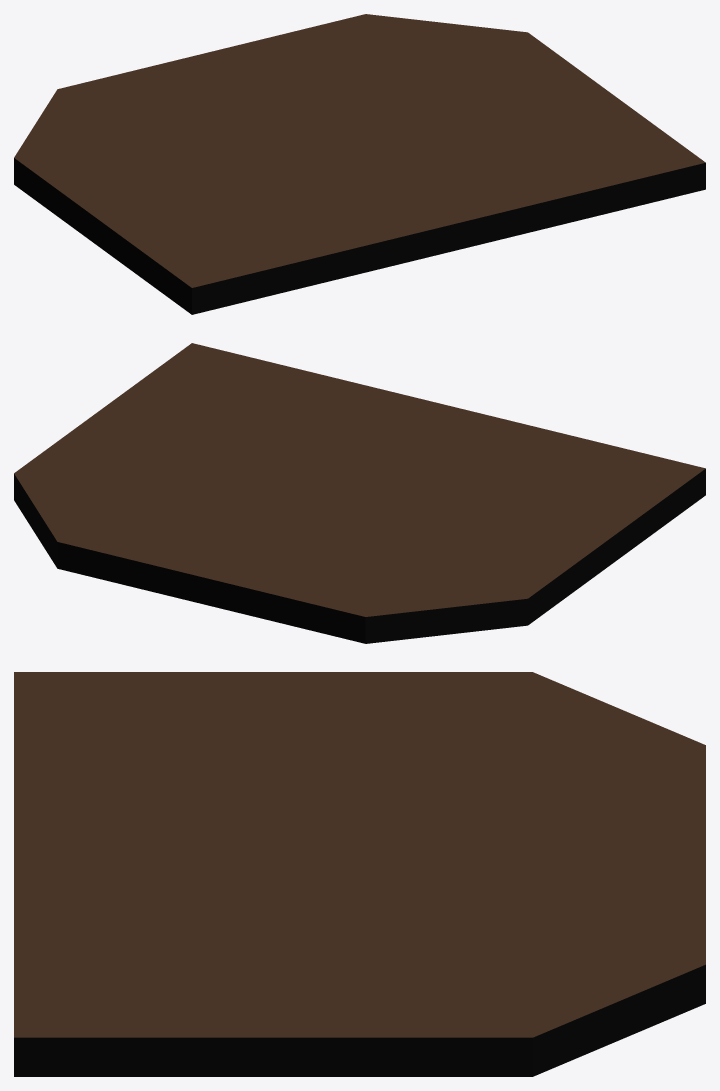
File: Floor_Room_0.fbx
3 renders of one model, top to bottom at view 1: azimuth 30°, elevation 25°; view 2: azimuth 150°, elevation 25°; view 3: azimuth 270°, elevation 25°, orthographic. The views are drawn at different scales.
Visible parts, largest first — view 1: Floor_Room_4.002; view 2: Floor_Room_4.002; view 3: Floor_Room_4.002.
Boxes of the visible parts, x1,y1,x2,y2 form: Floor_Room_4.002: [14, 14, 705, 314]; Floor_Room_4.002: [14, 343, 705, 643]; Floor_Room_4.002: [14, 672, 705, 1076].
Size of the model in its own units: 4 by 5 by 0.25.
